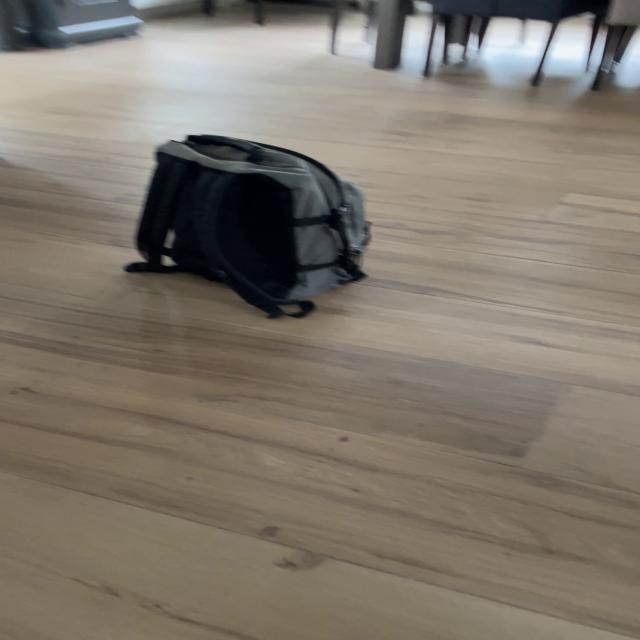backpack: (120, 126, 385, 323)
